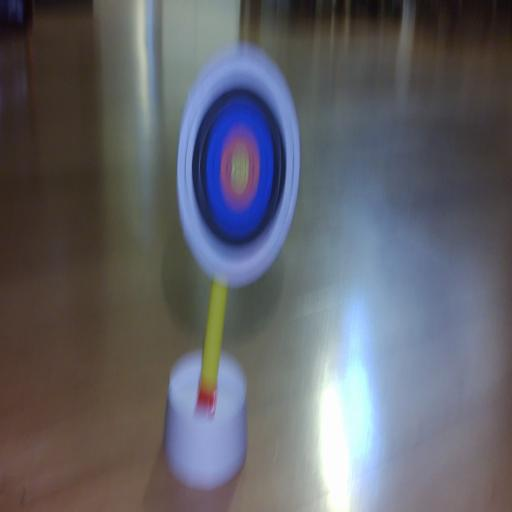target: (178, 46, 300, 286)
